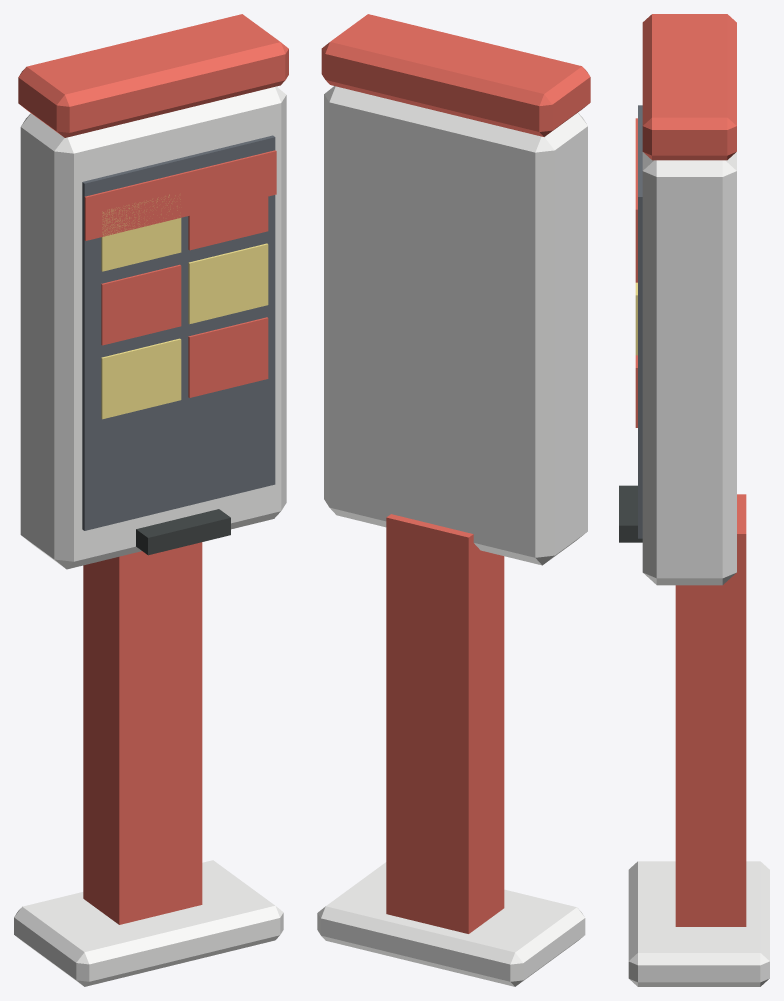
File: order-kiosk-burger.glb
The picture shows the model from 3 angles, left to right: view 1: azimuth 30°, elevation 25°; view 2: azimuth 150°, elevation 25°; view 3: azimuth 270°, elevation 25°; orthographic projection.
Parts seen in each view (by area): view 1: order-kiosk-burger; view 2: order-kiosk-burger; view 3: order-kiosk-burger.
Part boxes in pixels (x1,y1,x2,y2): order-kiosk-burger: (14,14,288,986); order-kiosk-burger: (317,14,590,986); order-kiosk-burger: (619,14,769,986).
Size of the model in its own units: 0.56 by 2.05 by 0.32.
